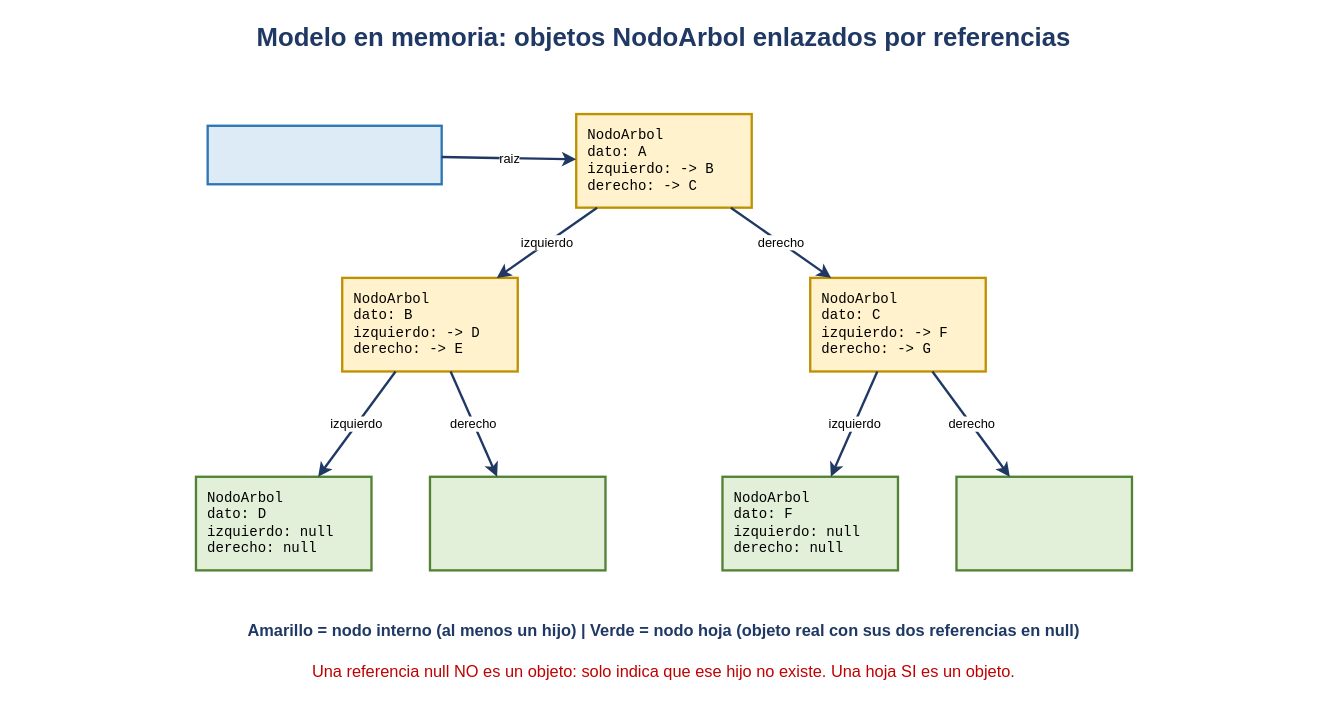
Image size: 1327x706. Some labels were removed from this diagram. Each missing label, with the box of its shape:
NodoArbol dato: E izquierdo: null derecho: null: (428, 475, 606, 571)
NodoArbol dato: G izquierdo: null derecho: null: (955, 475, 1133, 571)
NodoArbol<String> raiz: (206, 124, 442, 185)
